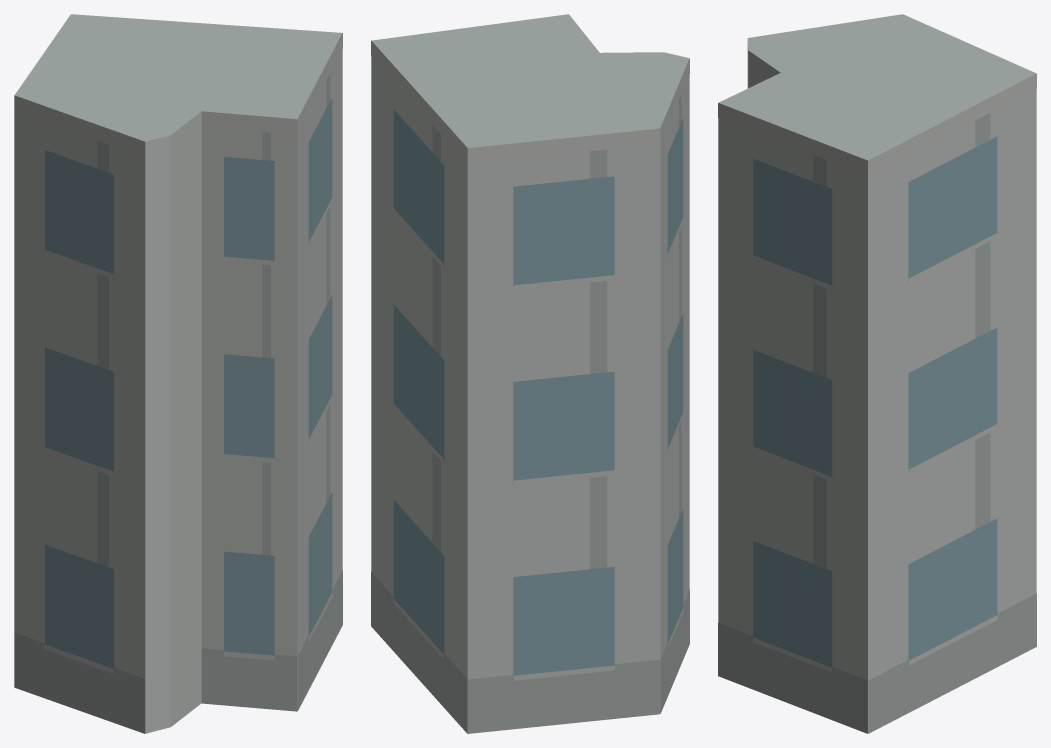
The model's file is survey-upis-33024095.glb.
3 renders of one model, left to right at view 1: azimuth 30°, elevation 25°; view 2: azimuth 150°, elevation 25°; view 3: azimuth 270°, elevation 25°, orthographic. The views are drawn at different scales.
Visible parts, largest first — view 1: survey-upis-33024095.tmp; view 2: survey-upis-33024095.tmp; view 3: survey-upis-33024095.tmp.
Part boxes in pixels (x1,y1,x2,y2): survey-upis-33024095.tmp: (14,14,342,733); survey-upis-33024095.tmp: (371,14,689,733); survey-upis-33024095.tmp: (718,14,1036,733).
Size of the model in its own units: 5.02 by 9.15 by 4.61.
